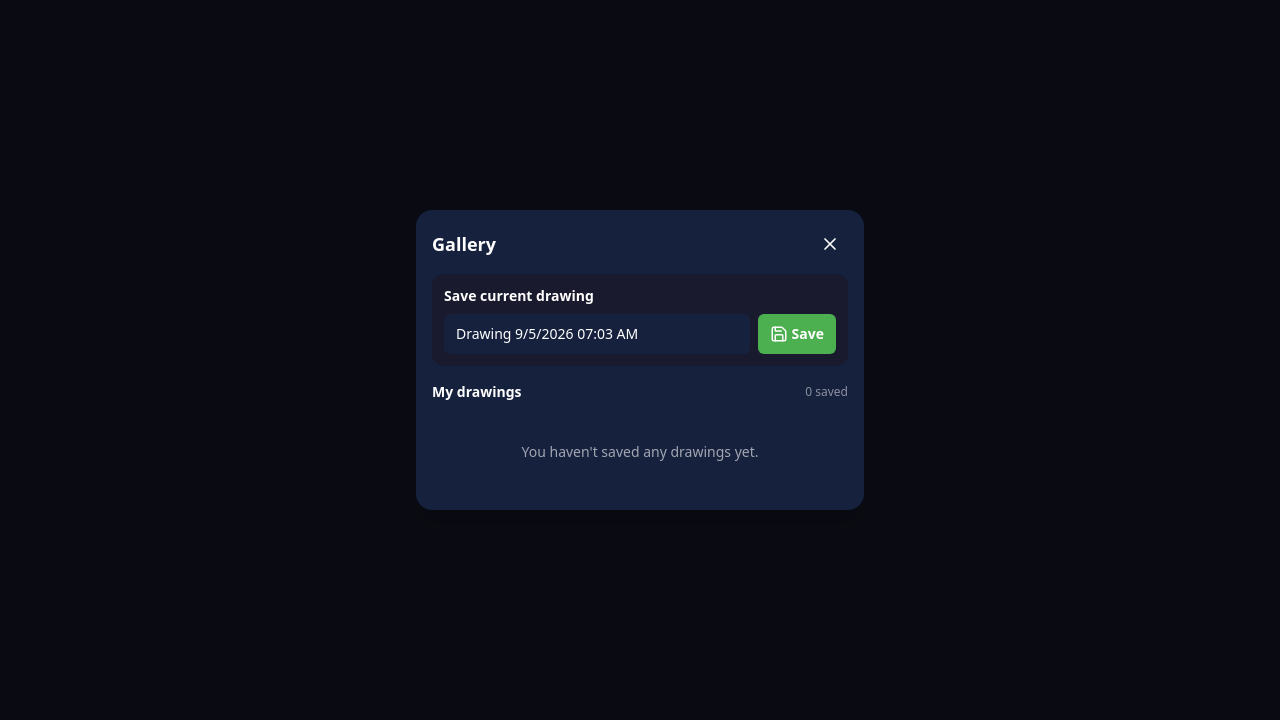
Gallery (F05/FR-003) › saving with a name creates the drawing and adds it to the list (US1/FR-002)
Replace the text in the field with "My drawing" at (597, 334), box [444,314,750,354]
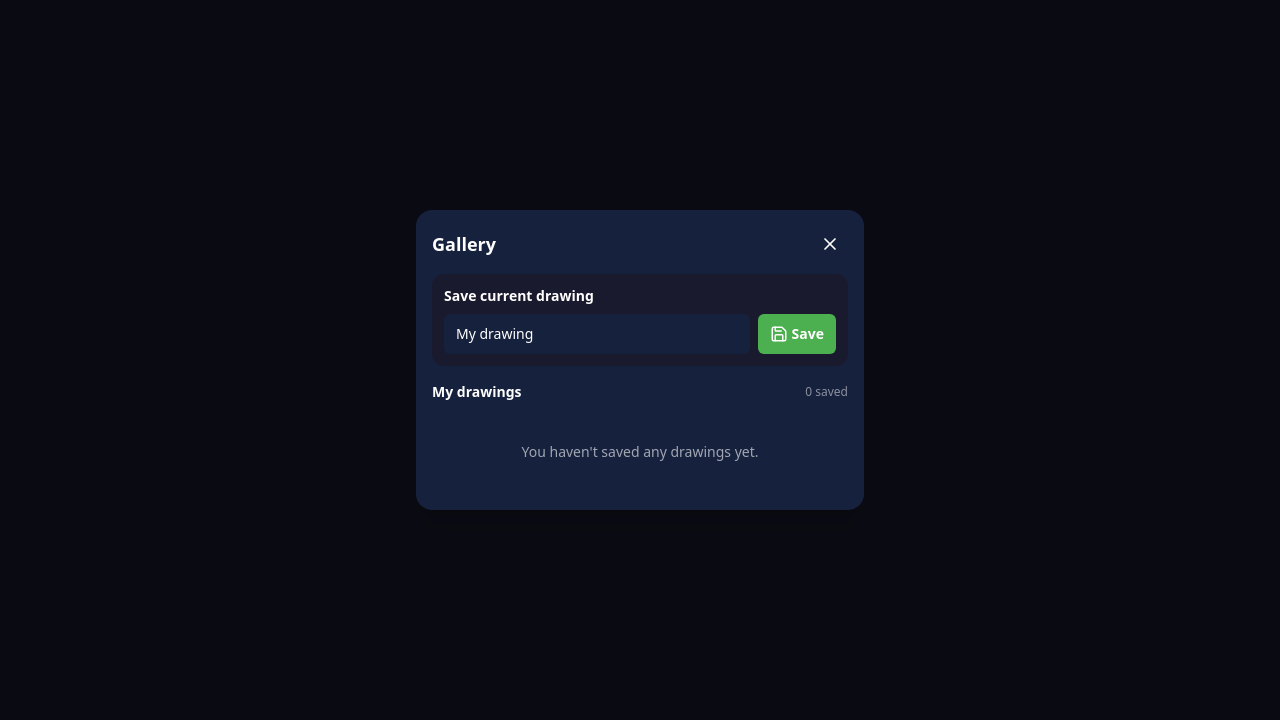
Click the button "Save" at (797, 334), box [758,314,836,354]
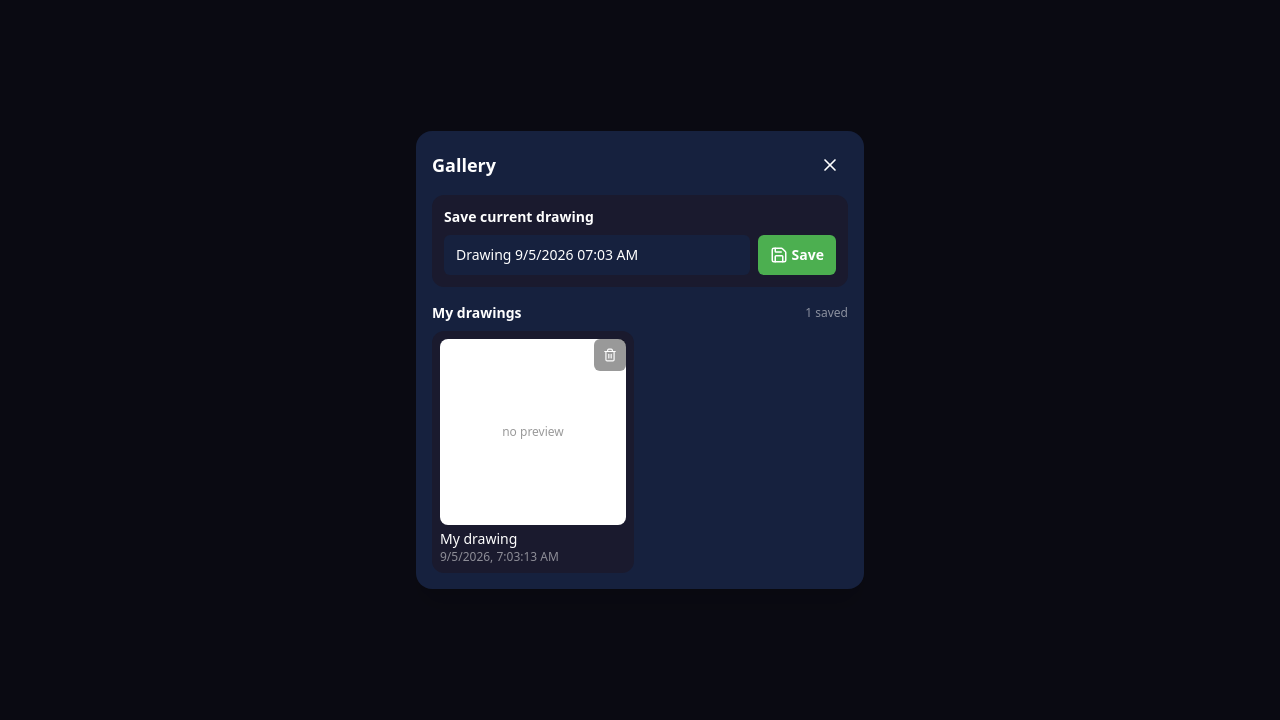
Check: the text "My drawing" is shown, box [440,529,517,548]
